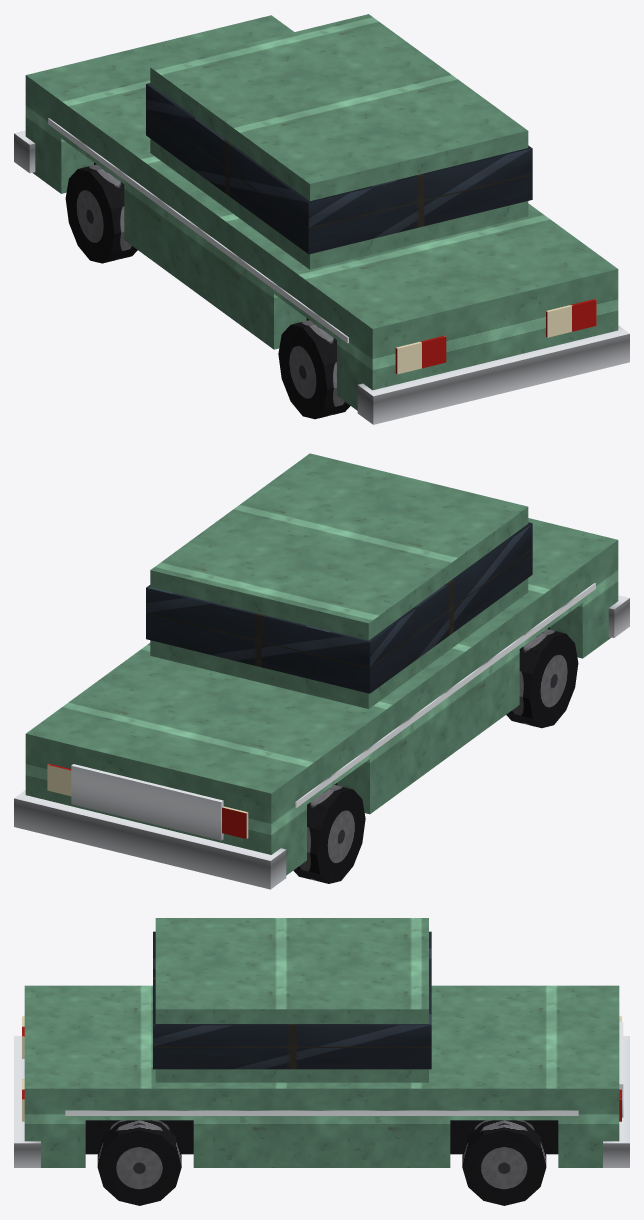
File: Car_SedanMint.fbx
The picture shows the model from 3 angles, top to bottom: view 1: azimuth 30°, elevation 25°; view 2: azimuth 150°, elevation 25°; view 3: azimuth 270°, elevation 25°; orthographic projection. The views are drawn at different scales.
Visible parts, largest first — view 1: Car_SedanMint; view 2: Car_SedanMint; view 3: Car_SedanMint.
Part boxes in pixels (left/top/right/bottom): Car_SedanMint: left=14, top=14, right=629, bottom=424; Car_SedanMint: left=14, top=453, right=629, bottom=889; Car_SedanMint: left=14, top=918, right=629, bottom=1205.
Size of the model in its own units: 1.88 by 1.55 by 4.56.
